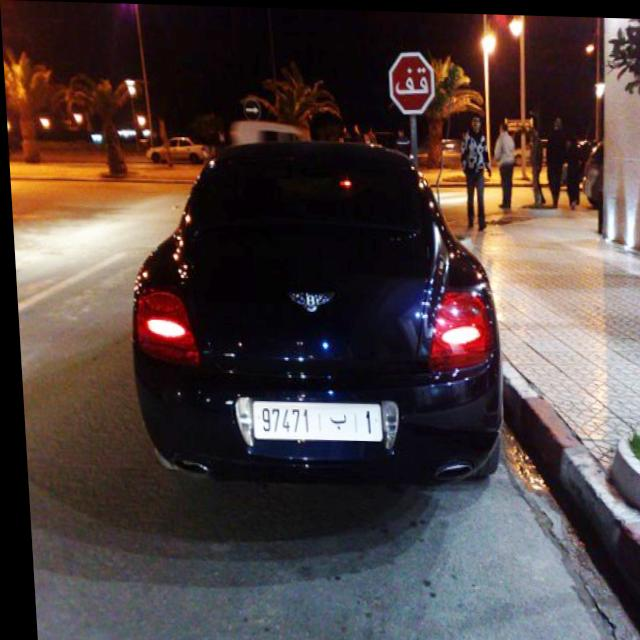License-Plate: (247, 400, 377, 440)
